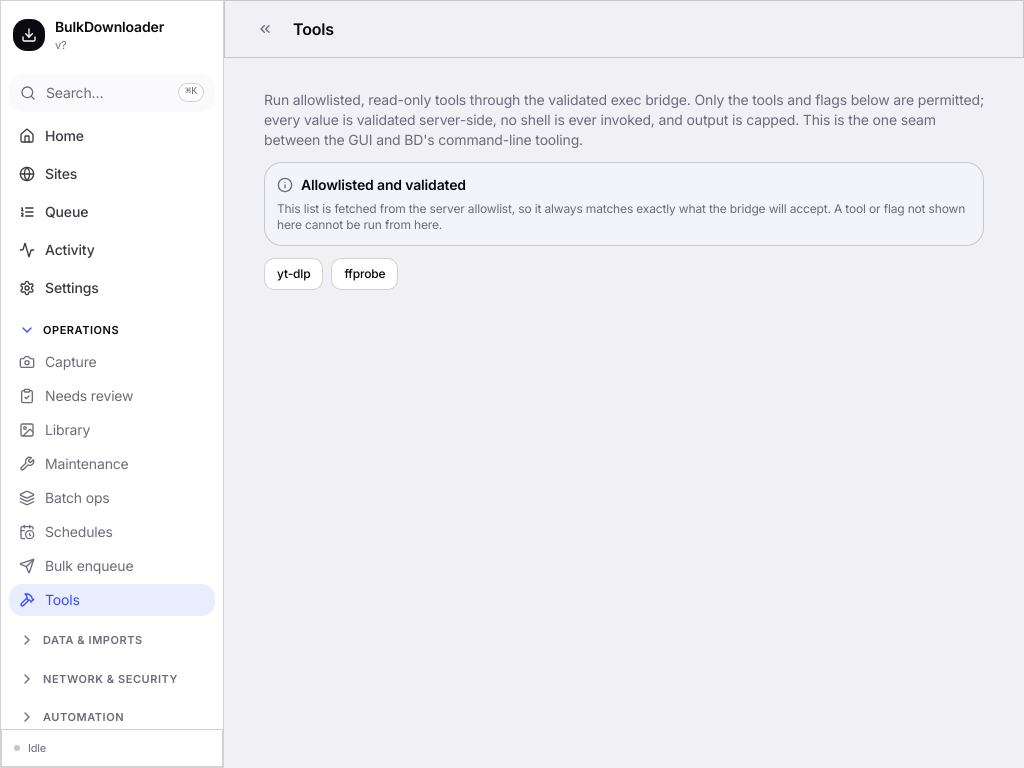
Test: F1 Tools › F1: a run that resolves after a tool switch names its own tool and stays off the new pane
The width and height of the screenshot is (1024, 768).
Click the button "yt-dlp" at coordinates (294, 274), box [264,258,323,290]
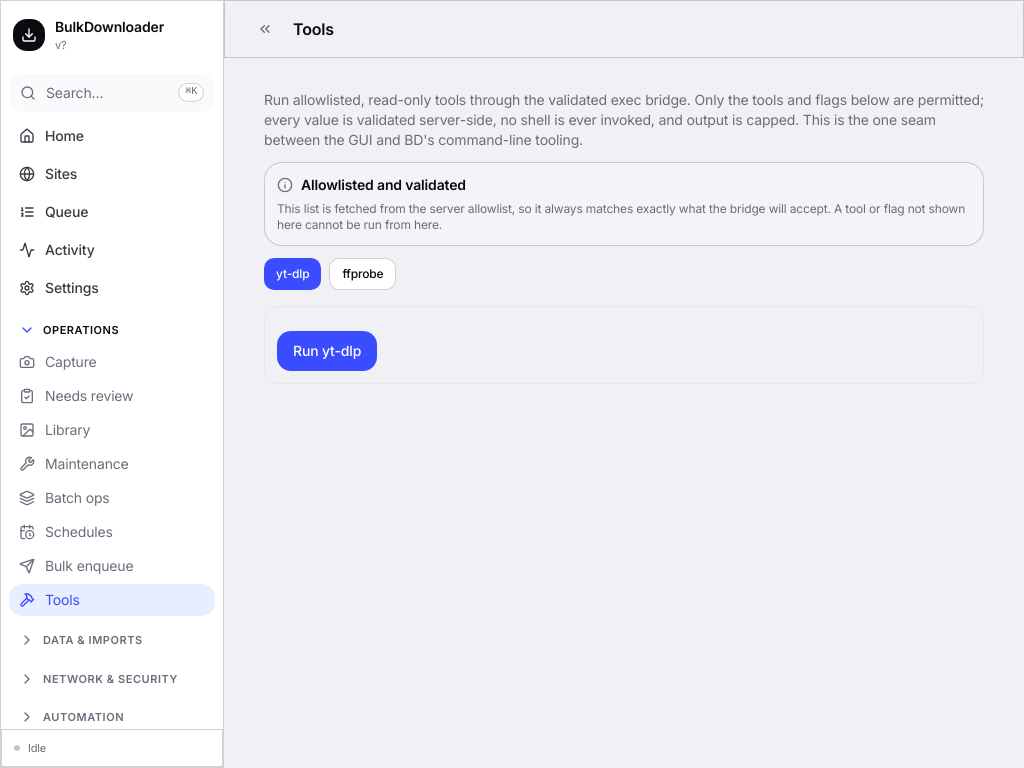
Click the button "Run yt-dlp" at coordinates (327, 351), box [277,331,377,371]
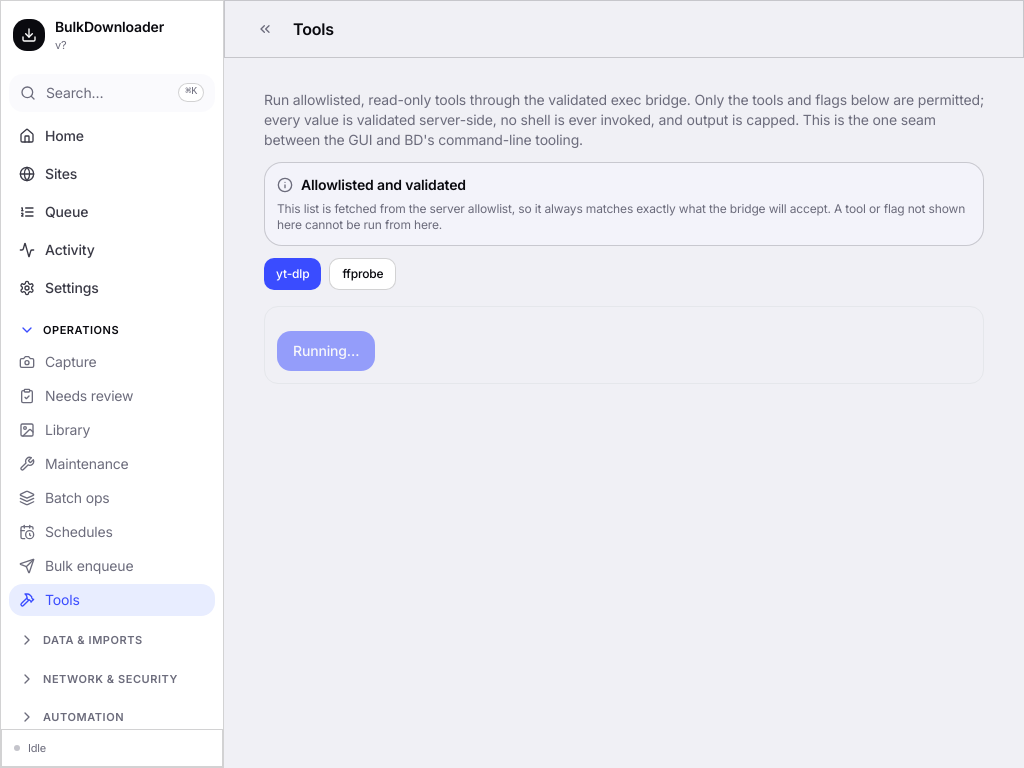
Click the button "ffprobe" at coordinates (363, 274), box [329,258,396,290]
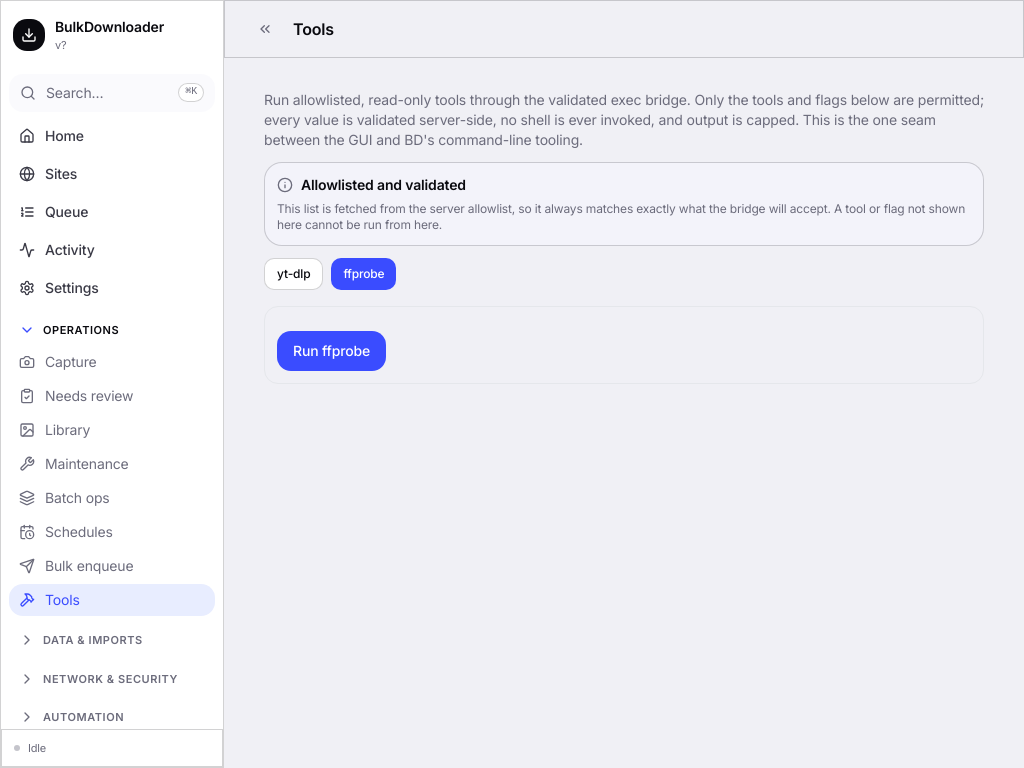
Result: the button "Run ffprobe" is shown at [277,331,386,371]
